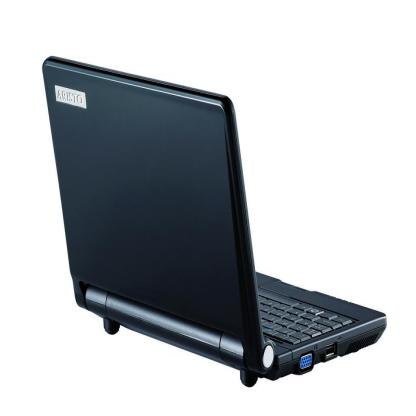board: (41, 55, 387, 389)
